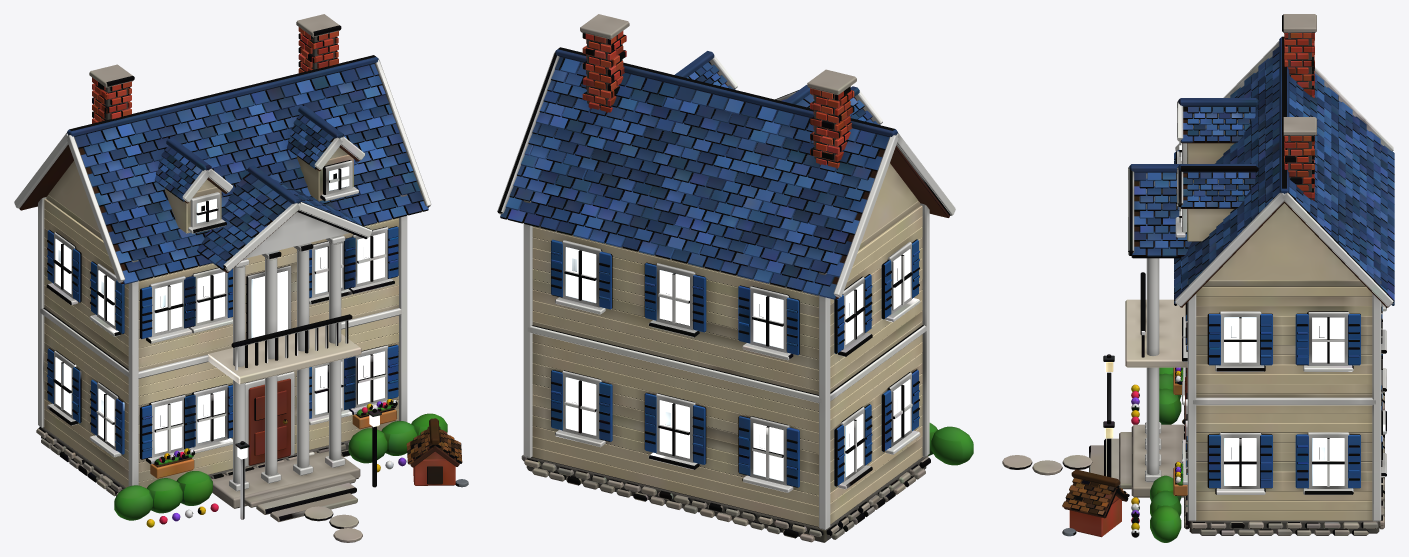
File: manor.glb
The picture shows the model from 3 angles, left to right: view 1: azimuth 30°, elevation 25°; view 2: azimuth 150°, elevation 25°; view 3: azimuth 270°, elevation 25°; orthographic projection. The views are drawn at different scales.
Parts seen in each view (by area): view 1: manor; view 2: manor; view 3: manor.
Part boxes in pixels (left/top/right/bottom): manor: left=14, top=14, right=468, bottom=542; manor: left=497, top=14, right=973, bottom=542; manor: left=1002, top=14, right=1394, bottom=542.
Bounding box in the file's own units: 3.09 × 3.5 × 3.12.
Materials: 1 (1 with a texture image).
